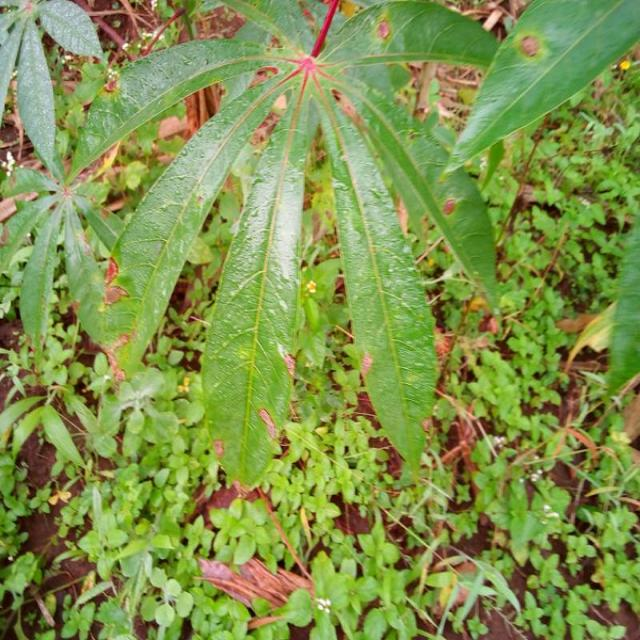cassava leaf: (315, 86, 439, 481), (199, 86, 318, 491), (442, 0, 638, 177)
